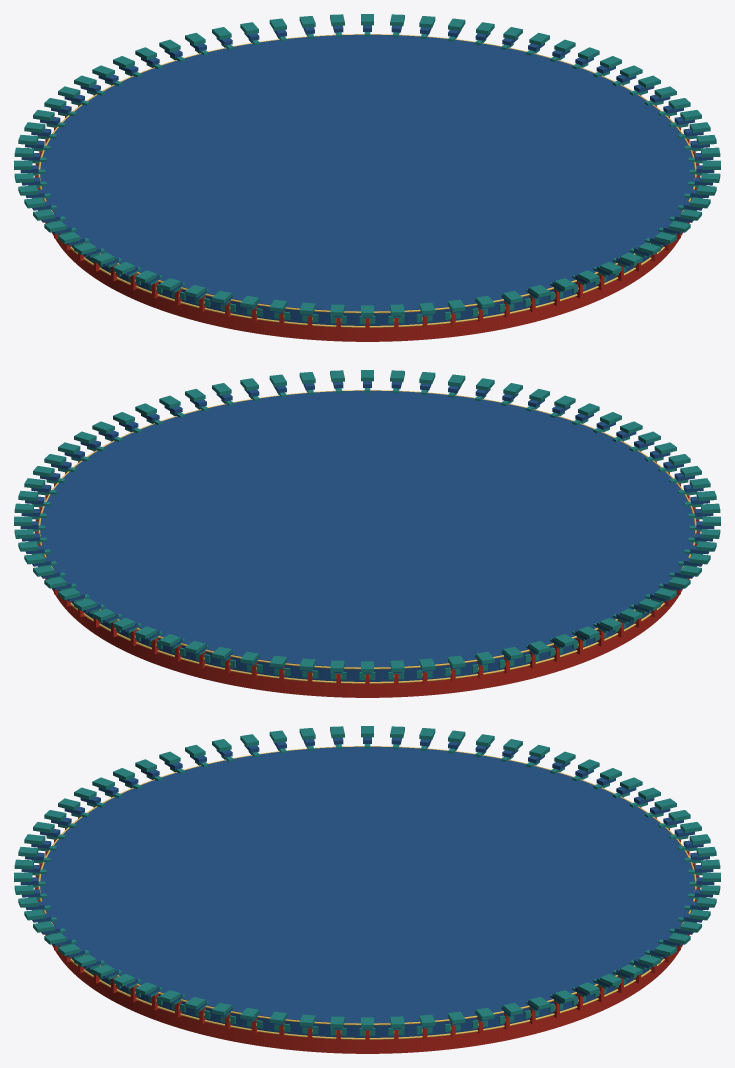
File: SM_03_Bracket_1.fbx
3 renders of one model, top to bottom at view 1: azimuth 30°, elevation 25°; view 2: azimuth 150°, elevation 25°; view 3: azimuth 270°, elevation 25°, orthographic.
Visible parts, largest first — view 1: Bracket_1; view 2: Bracket_1; view 3: Bracket_1.
Boxes of the visible parts, x1=… form: Bracket_1: x1=14, y1=14, x2=720, y2=341; Bracket_1: x1=14, y1=370, x2=720, y2=697; Bracket_1: x1=14, y1=726, x2=720, y2=1053.
Bounding box in the file's own units: 3112 × 3112 × 206.
